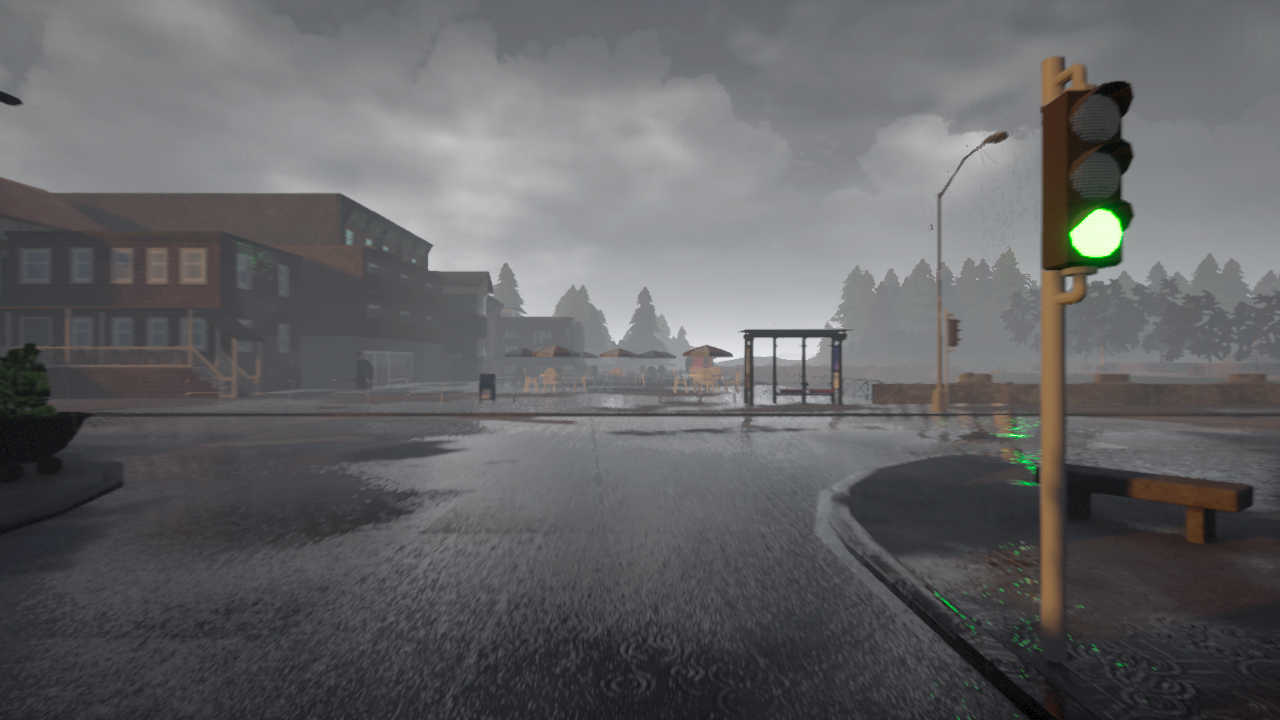green: (1039, 83, 1135, 278)
